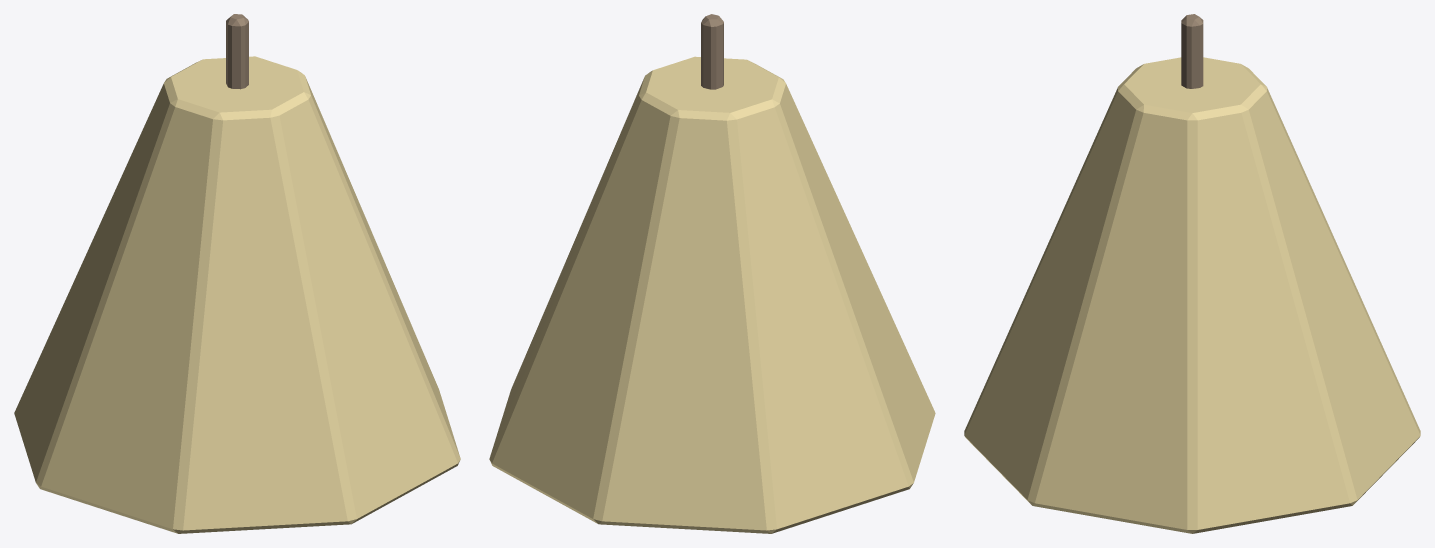
Rendered from haystack.glb.
3 views of the same model, side by side, from view 1: azimuth 30°, elevation 25°; view 2: azimuth 150°, elevation 25°; view 3: azimuth 270°, elevation 25° (orthographic).
Parts seen in each view (by area): view 1: hay, pole; view 2: hay, pole; view 3: hay, pole.
Boxes of the visible parts, x1,y1,x2,y2 form: hay: (14,56,460,533); pole: (226,14,248,89); hay: (489,56,935,533); pole: (701,14,723,89); hay: (964,57,1420,533); pole: (1181,14,1203,88).
Size of the model in its own units: 0.9816 by 1 by 0.9816.
